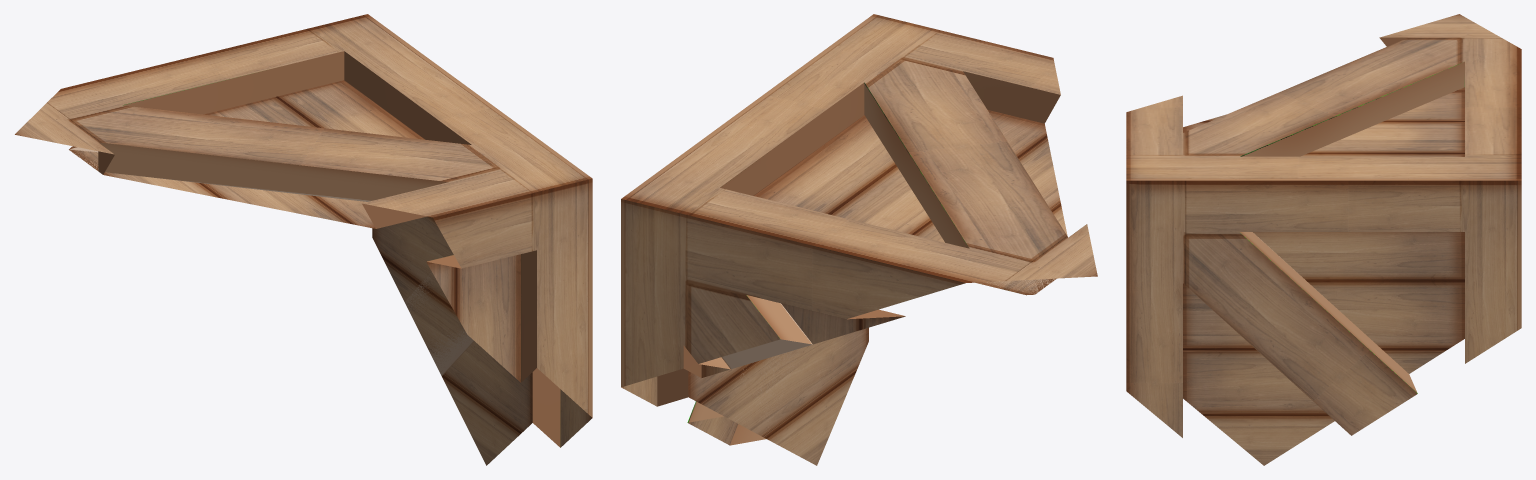
The model's file is brokenbox5.FBX.
3 renders of one model, left to right at view 1: azimuth 30°, elevation 25°; view 2: azimuth 150°, elevation 25°; view 3: azimuth 270°, elevation 25°, orthographic. The views are drawn at different scales.
Parts seen in each view (by area): view 1: Object001; view 2: Object001; view 3: Object001.
Part boxes in pixels (<box>): Object001: <box>15,14,592,465</box>; Object001: <box>621,14,1097,465</box>; Object001: <box>1126,14,1521,465</box>.
Size of the model in its own units: 1.4 by 1.16 by 1.4.
